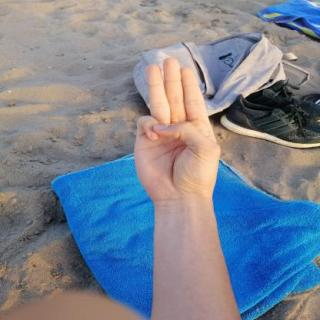THA: (119, 51, 237, 208)
